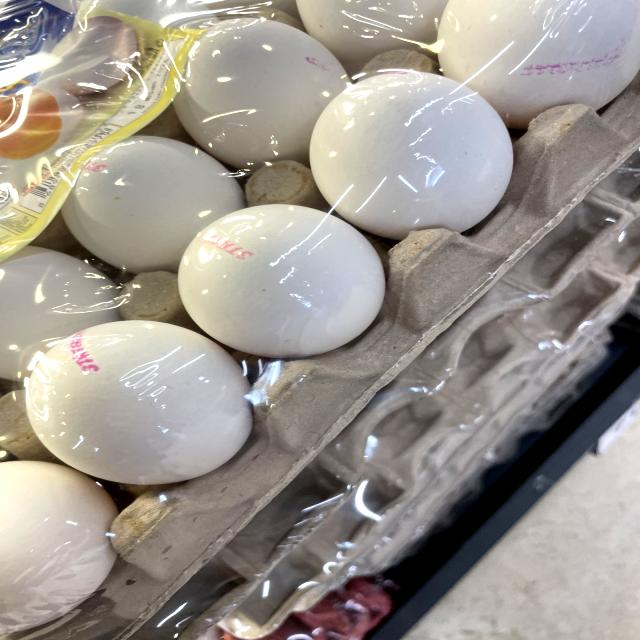egg: (14, 308, 262, 490), (297, 68, 528, 248), (169, 195, 392, 359), (38, 125, 258, 274)
